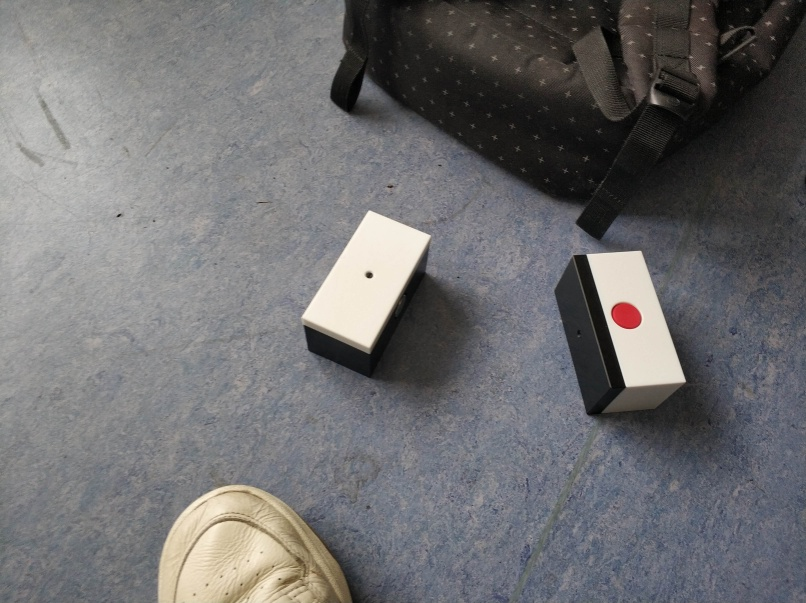black+white+red: (548, 248, 684, 418)
white+black+silver: (299, 208, 435, 383)
